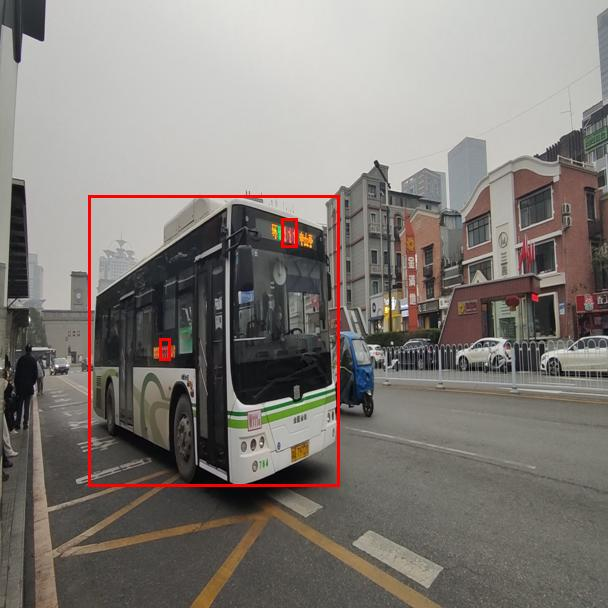bus: (88, 195, 339, 486)
screen: (281, 218, 297, 247), (159, 338, 170, 360)
